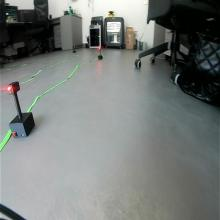red: (6, 80, 20, 95)
